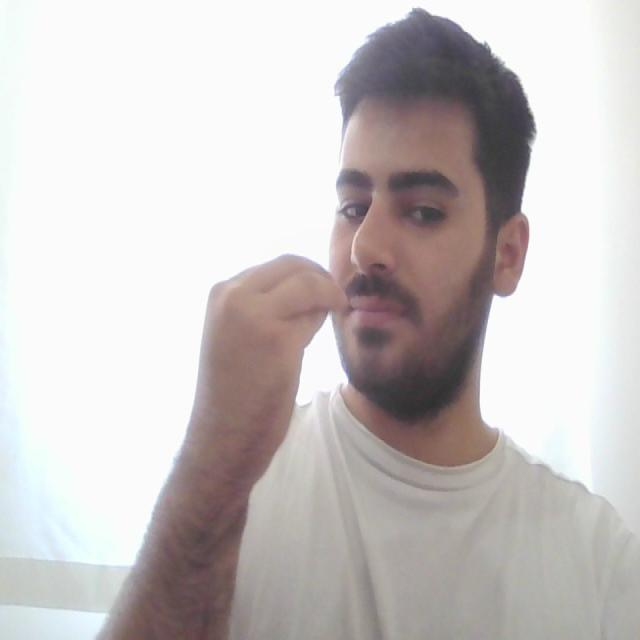Yemek: (204, 254, 404, 333)
